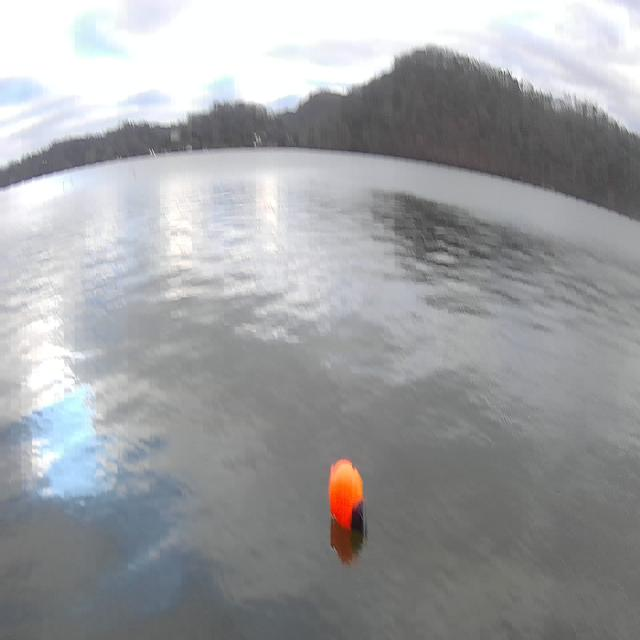Buoy: (317, 450, 376, 550)
